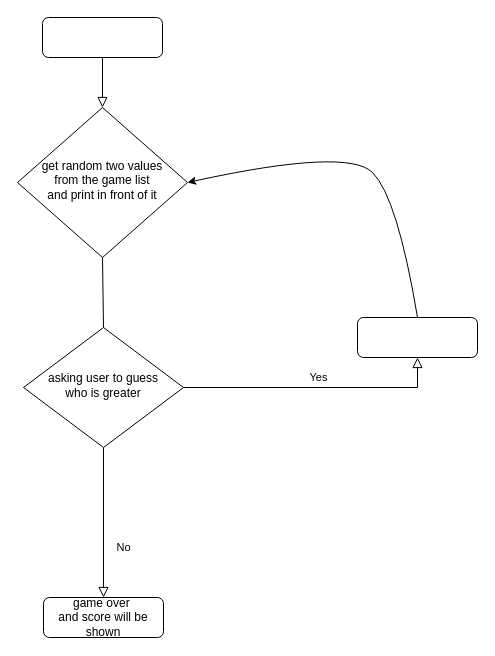
Some shapes in this 495 by 656 pixel diagram are drawn without their labels. The shapes that lost their labels are listed below. From the top down, each one's centre as x and y in pixels, then its label:
point 102,37: start with score=0
point 417,337: add score +=1
